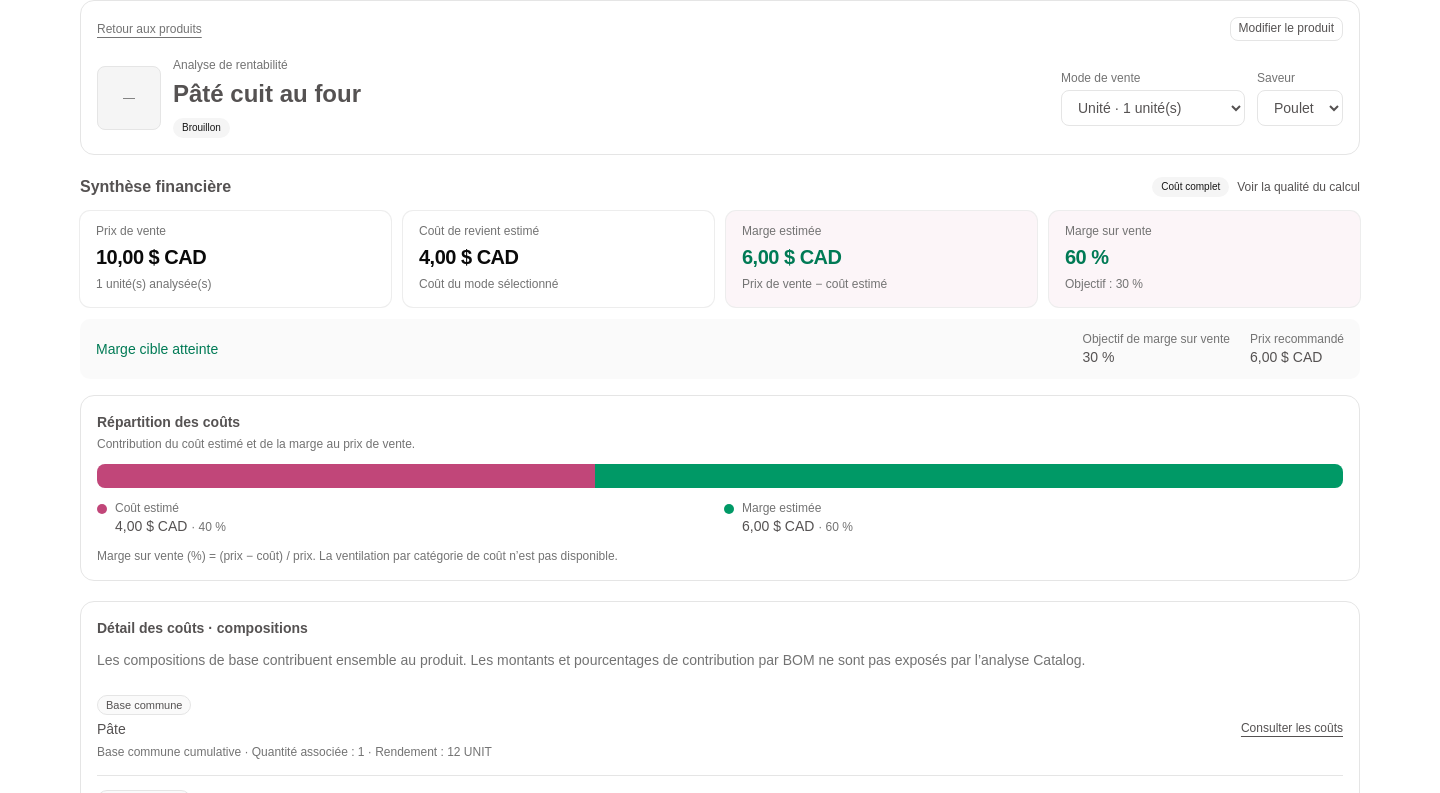
Test: Product pricing workspace › supports real choices and comparisons
Select "Thon" in the dropdown labelled "Saveur" at point(1300, 108), box 1257,90 -> 1343,126
(page scrolled)
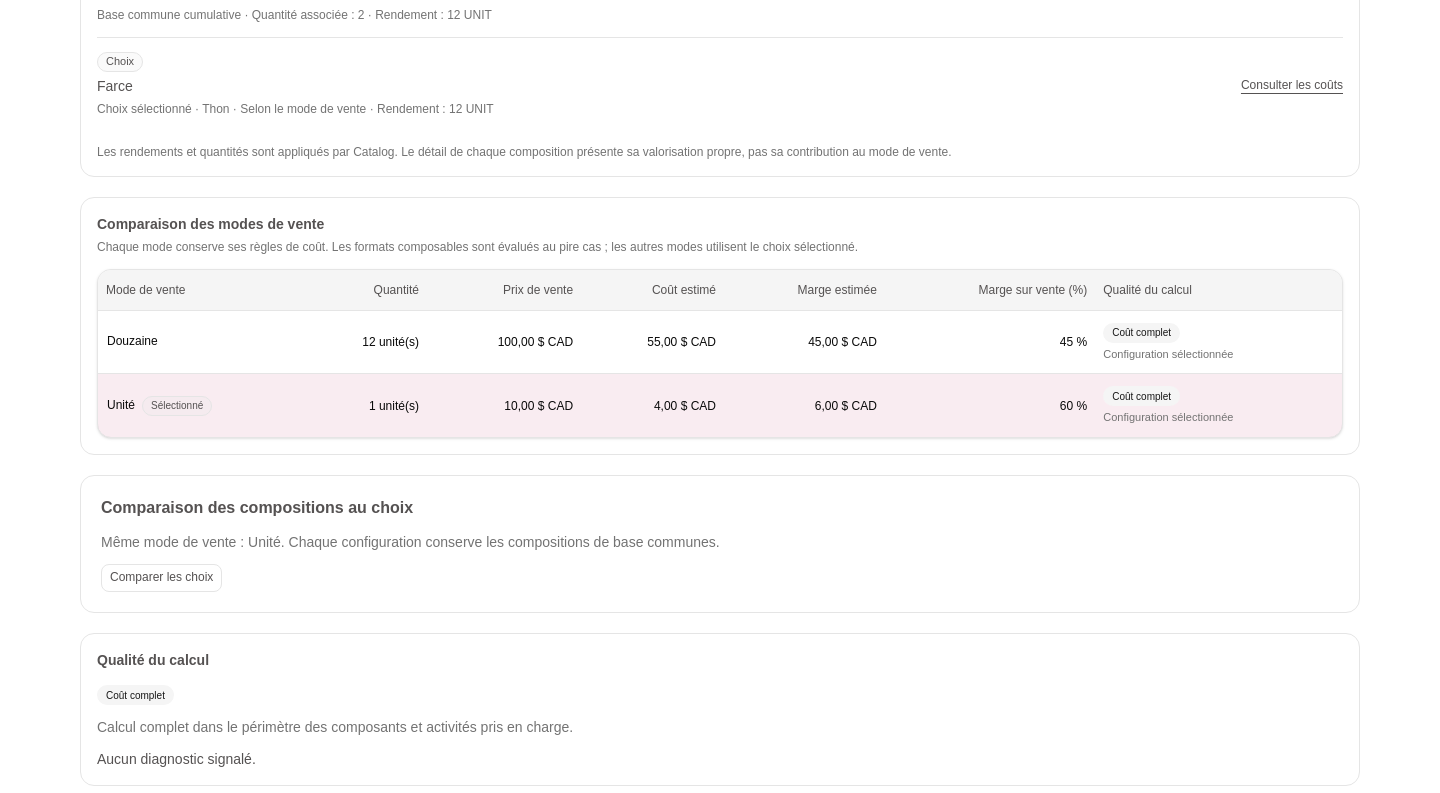
Click the button "Comparer les choix".
click(162, 578)  # box 101,564 -> 222,592
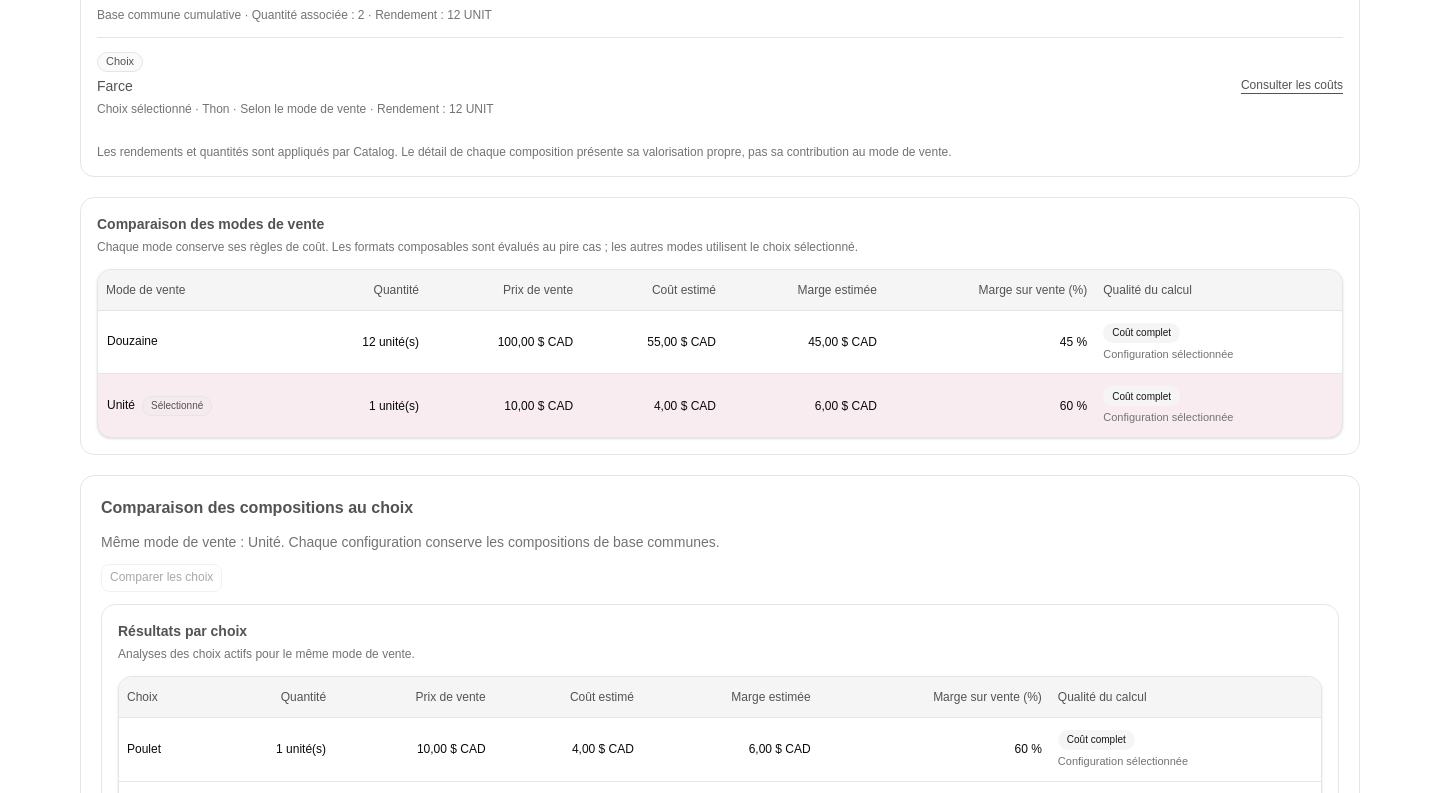
Result: the heading "Résultats par choix" is shown at 118,623 -> 247,639
